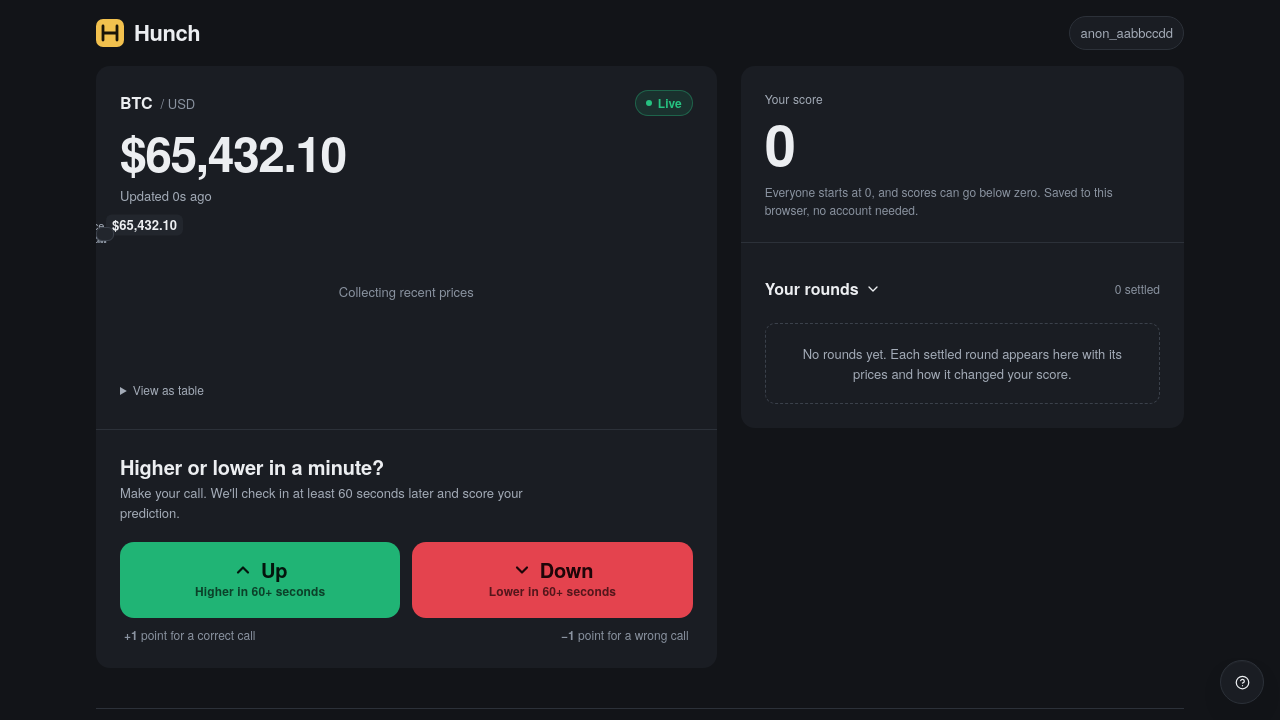
Test: App predictions › shows the existing round when the server reports one is active
The image size is (1280, 720).
What coordinates should you click on to do the following:
click the button "Up Higher in 60+ seconds"
I would click on:
 (260, 580)
Its box is [120, 542, 400, 618].
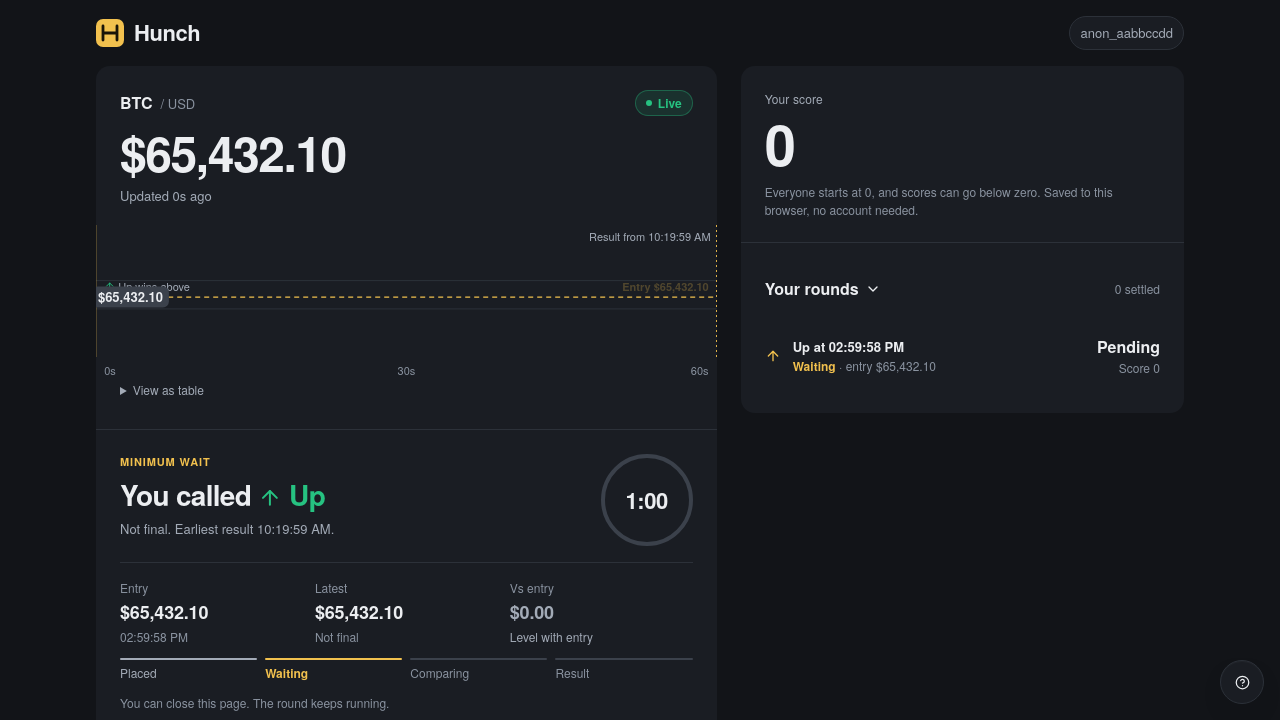
Expected: the heading "You called Up" is shown, [120, 479, 334, 511]
